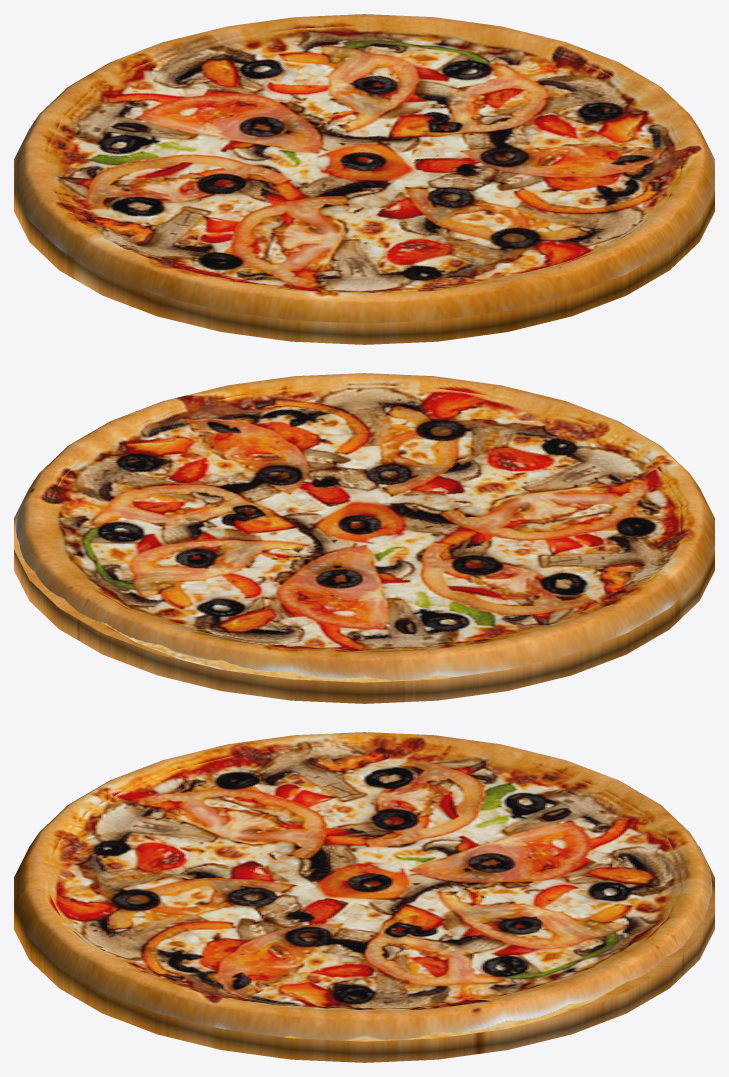
Rendered from CookedPizza.fbx.
3 renders of one model, top to bottom at view 1: azimuth 30°, elevation 25°; view 2: azimuth 150°, elevation 25°; view 3: azimuth 270°, elevation 25°, orthographic.
Parts seen in each view (by area): view 1: pCylinder1; view 2: pCylinder1; view 3: pCylinder1.
Boxes of the visible parts, x1,y1,x2,y2 form: pCylinder1: (14,14,714,344); pCylinder1: (14,373,714,703); pCylinder1: (14,732,714,1062).
Bounding box in the file's own units: 10 × 0.6226 × 9.95.
